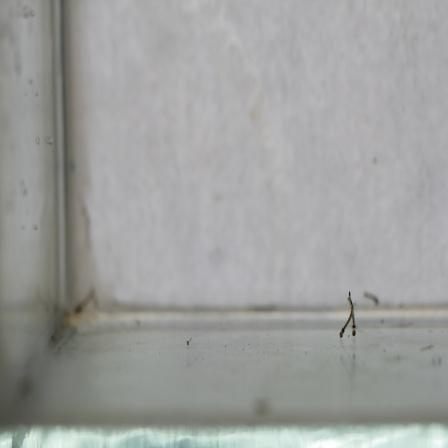Jentik-Nyamuk: (335, 288, 361, 340)
